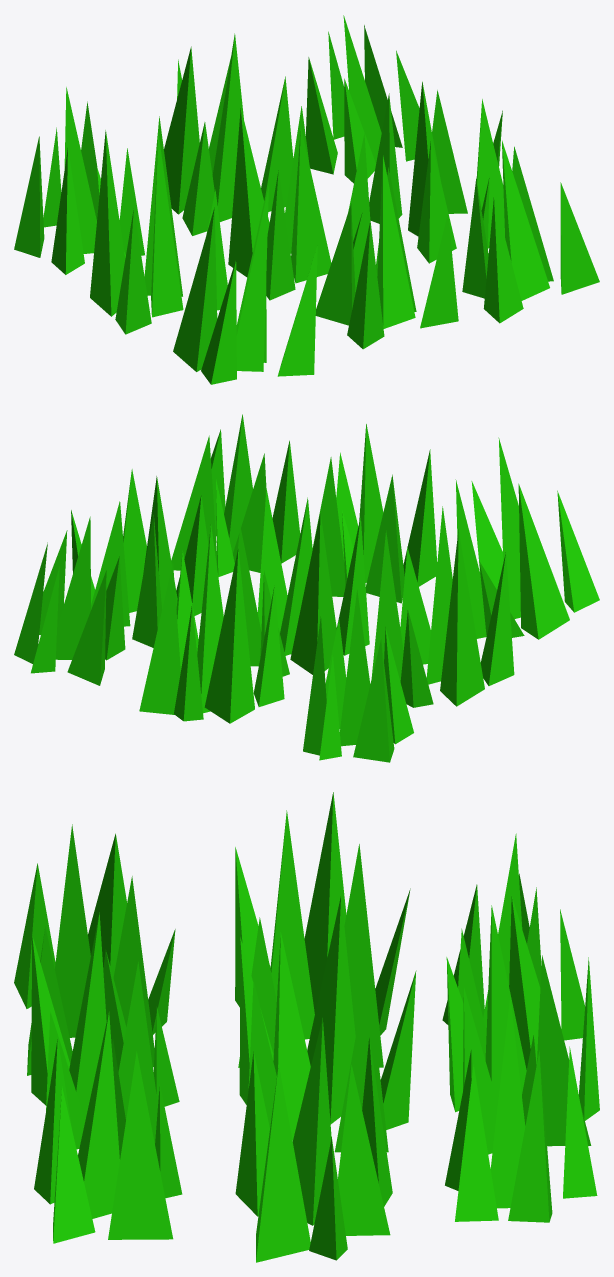
Rendered from uploads_files_3639591_Grass.fbx.
3 views of the same model, one above another, from view 1: azimuth 30°, elevation 25°; view 2: azimuth 150°, elevation 25°; view 3: azimuth 270°, elevation 25° (orthographic). The views are drawn at different scales.
Parts seen in each view (by area): view 1: Grass_08, Grass_02, Grass_05, Grass_06, Grass_09, Grass_01, Grass_04, Grass_03, Grass_07; view 2: Grass_09, Grass_05, Grass_08, Grass_01, Grass_03, Grass_07, Grass_02, Grass_06, Grass_04; view 3: Grass_04, Grass_06, Grass_01, Grass_05, Grass_09, Grass_07, Grass_08, Grass_02, Grass_03.
Part boxes in pixels (x1=…): Grass_08: x1=173, y1=186, x2=317, y2=384; Grass_02: x1=315, y1=155, x2=458, y2=349; Grass_05: x1=90, y1=116, x2=227, y2=334; Grass_06: x1=462, y1=140, x2=599, y2=323; Grass_09: x1=164, y1=33, x2=293, y2=235; Grass_01: x1=228, y1=106, x2=370, y2=300; Grass_04: x1=369, y1=81, x2=504, y2=263; Grass_03: x1=14, y1=87, x2=144, y2=274; Grass_07: x1=305, y1=15, x2=419, y2=183; Grass_09: x1=139, y1=524, x2=284, y2=723; Grass_05: x1=371, y1=506, x2=514, y2=707; Grass_08: x1=455, y1=437, x2=599, y2=639; Grass_01: x1=238, y1=488, x2=369, y2=676; Grass_03: x1=303, y1=590, x2=413, y2=762; Grass_07: x1=14, y1=516, x2=125, y2=685; Grass_02: x1=312, y1=424, x2=437, y2=603; Grass_06: x1=171, y1=414, x2=300, y2=577; Grass_04: x1=71, y1=469, x2=208, y2=647; Grass_04: x1=235, y1=1018, x2=392, y2=1262; Grass_06: x1=34, y1=1011, x2=182, y2=1243; Grass_01: x1=239, y1=895, x2=416, y2=1152; Grass_05: x1=235, y1=792, x2=410, y2=1067; Grass_09: x1=446, y1=896, x2=599, y2=1154; Grass_07: x1=445, y1=997, x2=597, y2=1222; Grass_08: x1=14, y1=824, x2=175, y2=1075; Grass_02: x1=31, y1=912, x2=179, y2=1149; Grass_03: x1=442, y1=833, x2=584, y2=1060.
Size of the model in its own units: 532 by 231 by 507.
